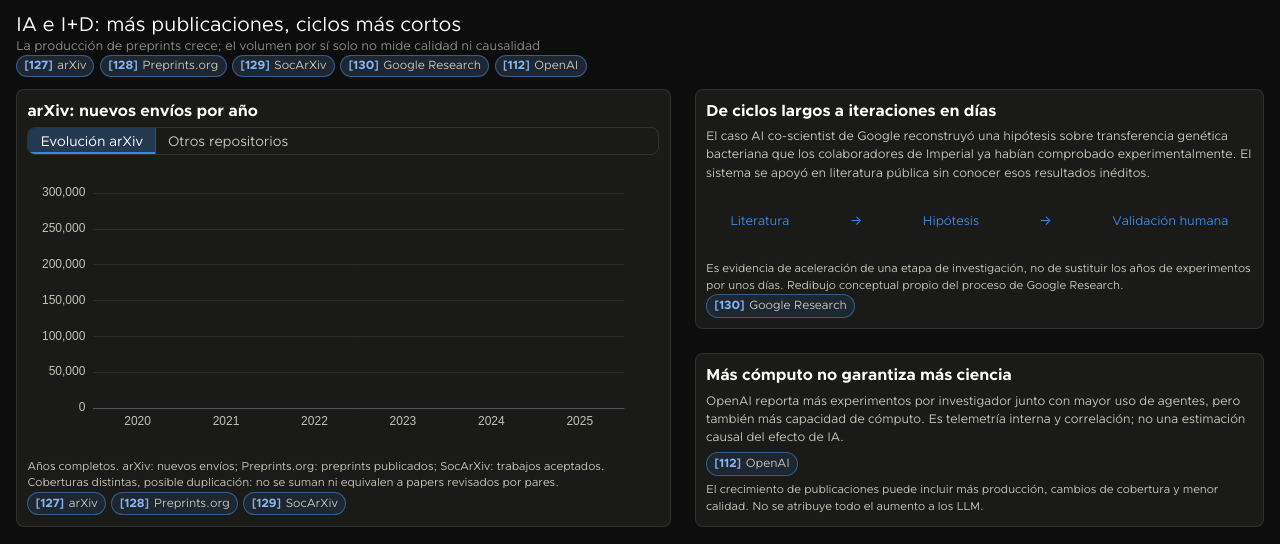
sourced AI slides › changes research views while keeping the units visible
This screenshot has width=1280, height=544.
What coordinates should you click on to do the following:
click the button "Otros repositorios"
I would click on:
 (228, 141)
Its box is [156, 128, 300, 154].
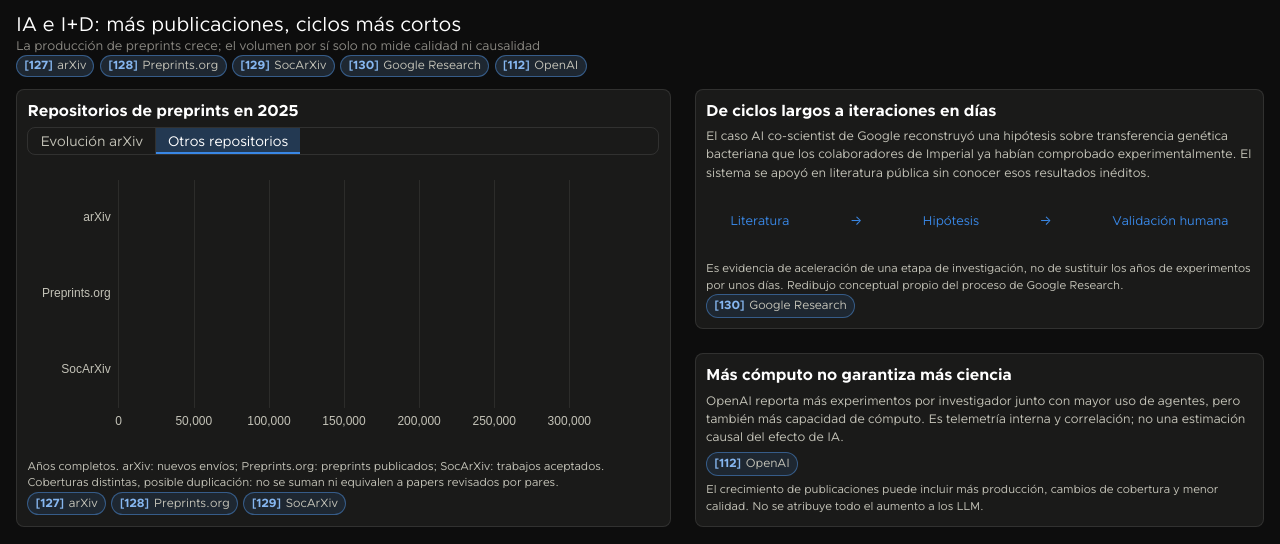
Expected: the text "no se suman ni equivalen" is shown, [27, 459, 604, 490]
Result: the picture named "Preprints.org: 31691" is shown at [27, 162, 659, 452]
